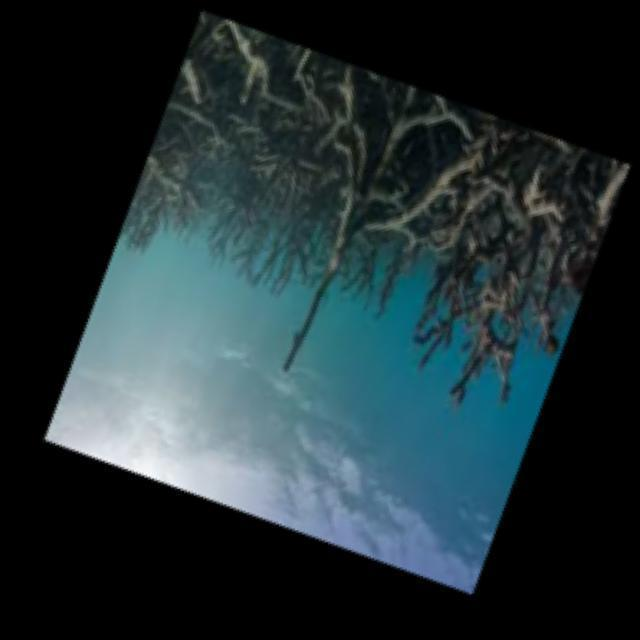Dead Coral: (54, 0, 629, 485)
